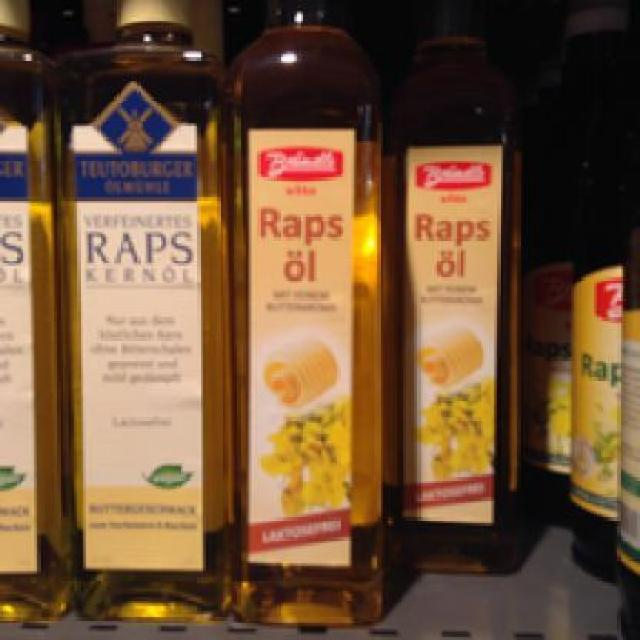Oil: (48, 0, 228, 623), (219, 6, 392, 620), (383, 6, 520, 574)
